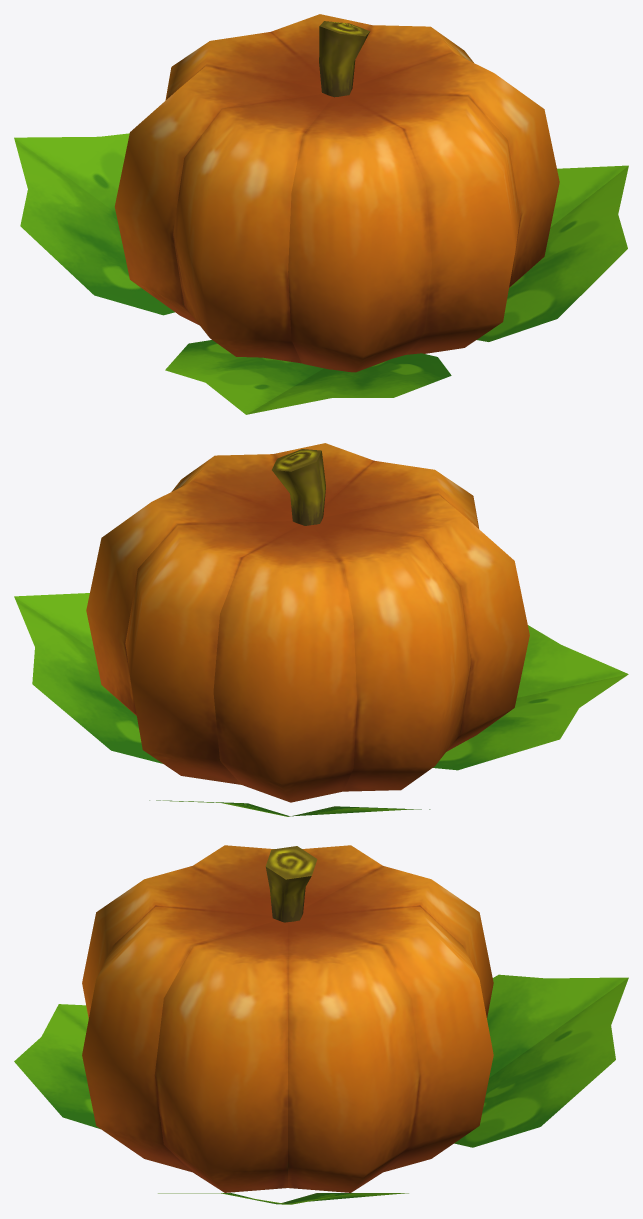
Rendered from pumpkin_grown.fbx.
The picture shows the model from 3 angles, top to bottom: view 1: azimuth 30°, elevation 25°; view 2: azimuth 150°, elevation 25°; view 3: azimuth 270°, elevation 25°; orthographic projection.
Visible parts, largest first — view 1: pumpkin_grown; view 2: pumpkin_grown; view 3: pumpkin_grown.
Part boxes in pixels (x1,y1,x2,y2): pumpkin_grown: (14, 14, 628, 414); pumpkin_grown: (14, 443, 628, 816); pumpkin_grown: (14, 845, 628, 1204).
Size of the model in its own units: 1.88 by 1.09 by 1.99.
1 material, 1 textured.
